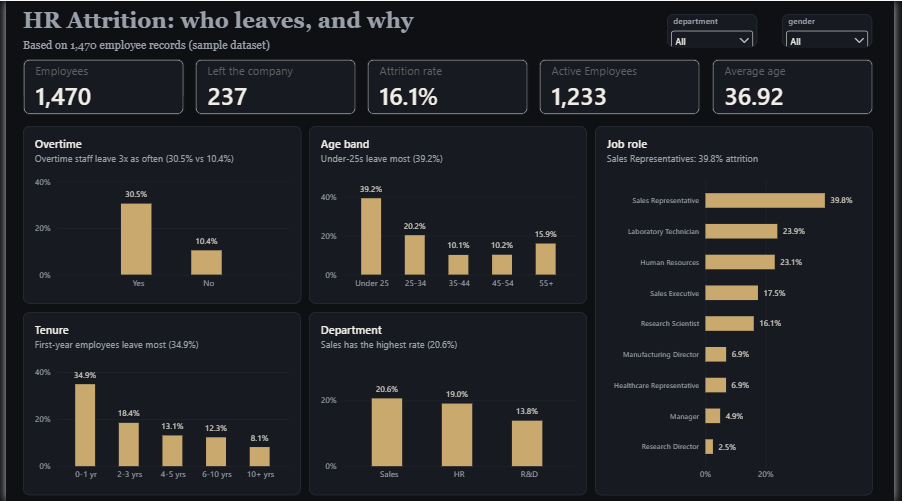

This screenshot's page, from the dashboard's own definition file:
{"tool":"powerbi","page":{"name":"Page 1","canvas":[1280,720],"ordinal":0},"visuals":[{"type":"cardVisual","fields":{"Data":["employees.Employees Display"]},"box":[24,84,232,80],"z":0},{"type":"cardVisual","fields":{"Data":["employees.Attrition Count"]},"box":[272,84,232,80],"z":1000},{"type":"cardVisual","fields":{"Data":["employees.Attrition Rate"]},"box":[520,84,232,80],"z":2000},{"type":"cardVisual","fields":{"Data":["employees.Active Display"]},"box":[768,84,232,80],"z":3000},{"type":"cardVisual","fields":{"Data":["employees.Avg Age"]},"box":[1016,84,232,80],"z":4000},{"type":"columnChart","title":"Department","fields":{"Category":["employees.department"],"Y":["employees.Attrition Rate"]},"box":[436,448,400,264],"z":5000},{"type":"clusteredColumnChart","title":"Age band","fields":{"Category":["employees.Age Band"],"Y":["employees.Attrition Rate"]},"box":[436,180,400,256],"z":6000},{"type":"clusteredColumnChart","title":"Overtime","fields":{"Category":["employees.over_time"],"Y":["employees.Attrition Rate"]},"box":[24,180,400.9,256],"z":7000},{"type":"clusteredBarChart","title":"Job role","fields":{"Category":["employees.job_role"],"Y":["employees.Attrition Rate"]},"box":[848,180,400,532],"z":8000},{"type":"clusteredColumnChart","title":"Tenure","fields":{"Category":["employees.Tenure Band"],"Y":["employees.Attrition Rate"]},"box":[24,448,400,264],"z":9000},{"type":"textbox","box":[24,10,900,46],"z":10000},{"type":"textbox","box":[24,54,900,26],"z":11000},{"type":"slicer","fields":{"Values":["employees.department"]},"box":[951.8,18.7,130,48],"z":12000},{"type":"slicer","fields":{"Values":["employees.gender"]},"box":[1118,18,130,48],"z":13000}]}

Visuals, with their boxes in screenshot pixels (x1, y1, x2, y2), scaled from the page's 1280x720 canvas onto the 902x501 screenshot:
cardVisual - employees.Employees Display: <region>17, 58, 180, 114</region>
cardVisual - employees.Attrition Count: <region>192, 58, 355, 114</region>
cardVisual - employees.Attrition Rate: <region>366, 58, 530, 114</region>
cardVisual - employees.Active Display: <region>541, 58, 705, 114</region>
cardVisual - employees.Avg Age: <region>716, 58, 879, 114</region>
"Department" columnChart: <region>307, 312, 589, 495</region>
"Age band" clusteredColumnChart: <region>307, 125, 589, 303</region>
"Overtime" clusteredColumnChart: <region>17, 125, 299, 303</region>
"Job role" clusteredBarChart: <region>598, 125, 879, 495</region>
"Tenure" clusteredColumnChart: <region>17, 312, 299, 495</region>
textbox: <region>17, 7, 651, 39</region>
textbox: <region>17, 38, 651, 56</region>
slicer - employees.department: <region>671, 13, 762, 46</region>
slicer - employees.gender: <region>788, 13, 879, 46</region>
